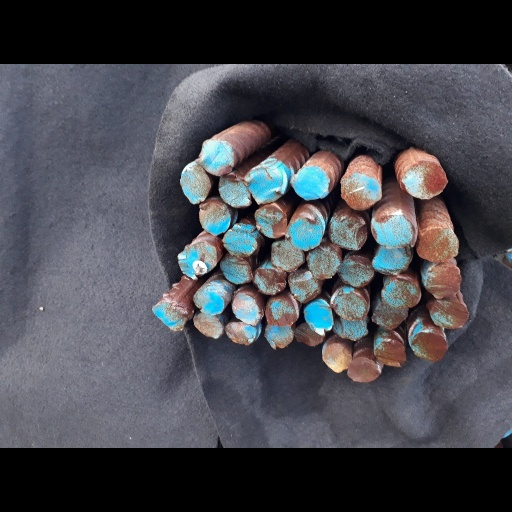dipstick: (399, 160, 449, 200), (340, 171, 382, 211), (242, 164, 284, 204), (417, 226, 460, 264), (370, 214, 416, 249), (197, 135, 236, 176), (177, 241, 217, 280), (289, 164, 330, 200), (328, 214, 366, 251), (334, 255, 376, 288), (367, 246, 413, 276), (178, 161, 210, 204), (422, 264, 461, 299), (328, 287, 369, 320), (251, 204, 289, 239), (220, 222, 258, 257), (426, 299, 468, 330), (232, 290, 265, 328), (306, 246, 342, 280), (218, 174, 254, 208), (286, 217, 323, 250), (381, 277, 421, 307), (303, 299, 335, 336), (151, 300, 188, 332), (409, 331, 447, 362), (198, 199, 230, 235), (271, 239, 305, 272), (219, 253, 253, 286), (287, 270, 321, 302), (264, 296, 299, 327), (373, 338, 409, 367), (332, 316, 370, 343), (321, 342, 353, 374), (193, 288, 227, 317), (371, 303, 407, 330), (346, 357, 382, 384), (251, 268, 287, 295), (225, 320, 262, 346), (192, 313, 225, 339), (264, 323, 294, 349), (294, 323, 325, 347)
